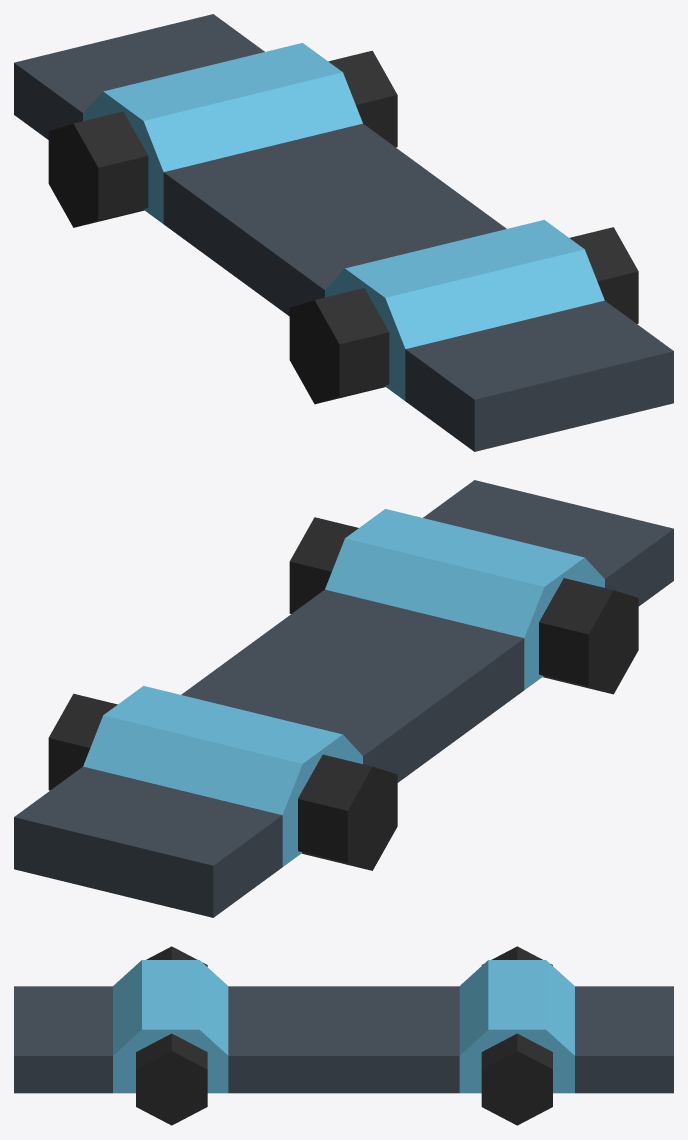
Rendered from FreightPlatform.fbx.
The picture shows the model from 3 angles, top to bottom: view 1: azimuth 30°, elevation 25°; view 2: azimuth 150°, elevation 25°; view 3: azimuth 270°, elevation 25°; orthographic projection. The views are drawn at different scales.
Parts seen in each view (by area): view 1: Platform, BackWheel.002, FrontWheel.002; view 2: Platform, FrontWheel.002, BackWheel.002; view 3: Platform, FrontWheel.002, BackWheel.002.
Boxes of the visible parts, bbox=[...] form: Platform: bbox=[14, 14, 673, 451]; BackWheel.002: bbox=[48, 50, 397, 227]; FrontWheel.002: bbox=[289, 227, 638, 404]; Platform: bbox=[14, 480, 673, 917]; FrontWheel.002: bbox=[289, 517, 638, 694]; BackWheel.002: bbox=[48, 693, 397, 870]; Platform: bbox=[14, 960, 673, 1093]; FrontWheel.002: bbox=[136, 946, 207, 1125]; BackWheel.002: bbox=[481, 946, 552, 1125].
Bounding box in the file's own units: 300 × 105 × 800.
